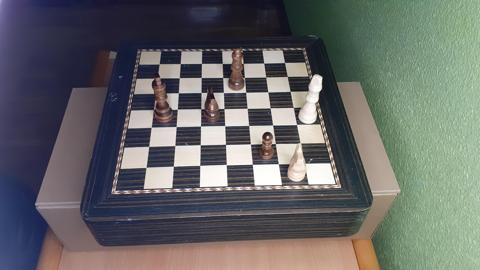xcorner: (156, 60, 162, 66), (154, 74, 160, 80), (152, 90, 158, 96), (150, 106, 156, 112), (148, 124, 154, 130), (145, 144, 151, 150), (142, 165, 148, 171), (178, 60, 184, 66), (177, 74, 183, 80), (176, 89, 182, 95), (174, 106, 180, 112), (173, 124, 179, 130), (171, 143, 177, 149), (170, 165, 176, 171), (200, 60, 206, 66), (199, 74, 205, 80), (199, 89, 205, 95), (198, 106, 204, 112), (198, 124, 204, 130), (198, 143, 204, 149), (197, 164, 203, 170), (221, 59, 227, 65), (221, 74, 227, 80), (222, 89, 228, 95), (222, 105, 228, 111), (223, 123, 229, 129), (224, 142, 230, 148), (224, 163, 230, 169), (242, 59, 248, 65), (243, 73, 249, 79), (245, 89, 251, 95), (246, 105, 252, 111), (248, 123, 254, 129), (249, 142, 255, 148), (251, 163, 257, 169), (263, 59, 269, 65), (265, 73, 271, 79), (267, 88, 273, 94), (270, 105, 276, 111), (272, 122, 278, 128), (275, 141, 281, 147), (278, 162, 284, 168), (284, 59, 290, 65), (287, 73, 293, 79), (290, 88, 296, 94), (293, 104, 299, 110), (296, 122, 302, 128), (300, 141, 306, 147), (304, 161, 310, 167)
